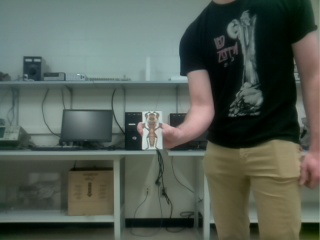Angry: (142, 111, 163, 149)
